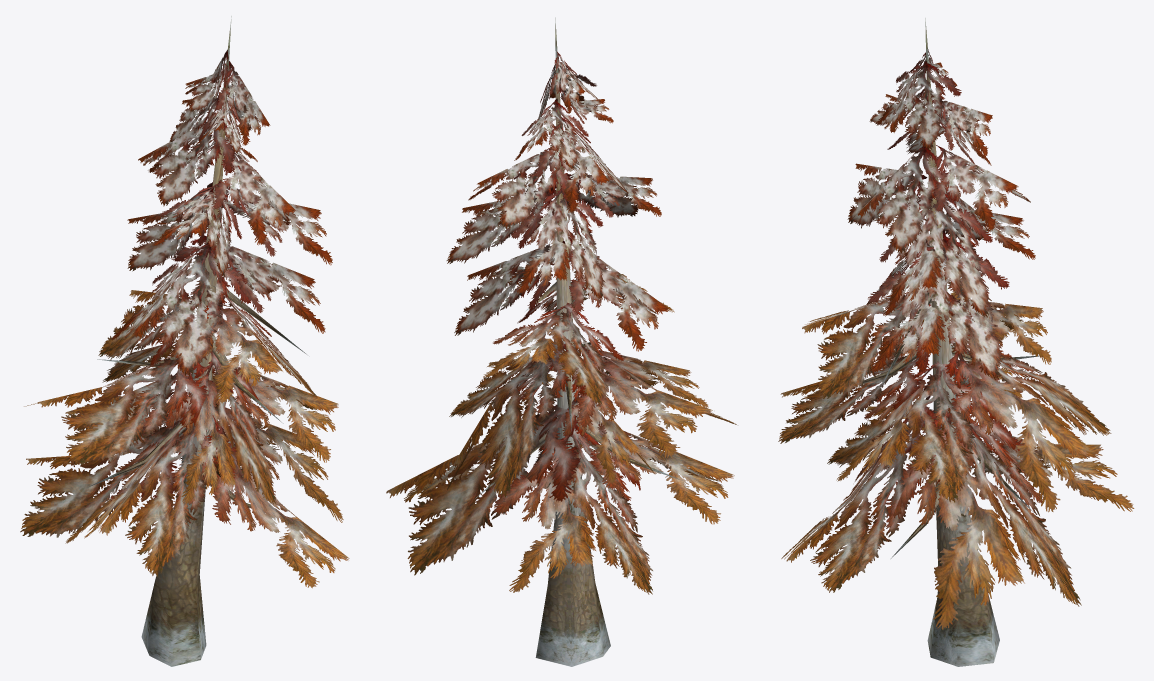
The model's file is environment_Tree_xuesong_001_a.FBX.
3 views of the same model, side by side, from view 1: azimuth 30°, elevation 25°; view 2: azimuth 150°, elevation 25°; view 3: azimuth 270°, elevation 25° (orthographic). The views are drawn at different scales.
Visible parts, largest first — view 1: environment_Tree_songshu_001_c02, environment_Tree_songshu_001_c01, environment_Tree_songshu_001_c03; view 2: environment_Tree_songshu_001_c02, environment_Tree_songshu_001_c01, environment_Tree_songshu_001_c03; view 3: environment_Tree_songshu_001_c02, environment_Tree_songshu_001_c01, environment_Tree_songshu_001_c03.
Boxes of the visible parts, x1,y1,x2,y2 form: environment_Tree_songshu_001_c02: (20, 290, 349, 588); environment_Tree_songshu_001_c01: (111, 50, 332, 376); environment_Tree_songshu_001_c03: (87, 16, 306, 666); environment_Tree_songshu_001_c02: (386, 274, 736, 594); environment_Tree_songshu_001_c01: (446, 51, 669, 351); environment_Tree_songshu_001_c03: (475, 17, 682, 666); environment_Tree_songshu_001_c02: (778, 290, 1134, 629); environment_Tree_songshu_001_c01: (847, 48, 1035, 380); environment_Tree_songshu_001_c03: (821, 18, 1039, 666).
Bounding box in the file's own units: 444 × 864 × 435.
Materials: 3 (3 with a texture image).
